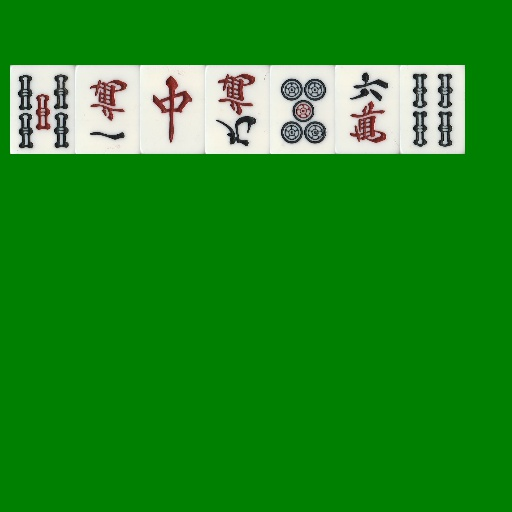1m: (75, 65, 140, 154)
4s: (400, 65, 465, 154)
5p: (270, 65, 335, 154)
5s: (10, 65, 75, 154)
6m: (335, 65, 400, 154)
9m: (205, 65, 270, 154)
tyun: (140, 65, 205, 154)
